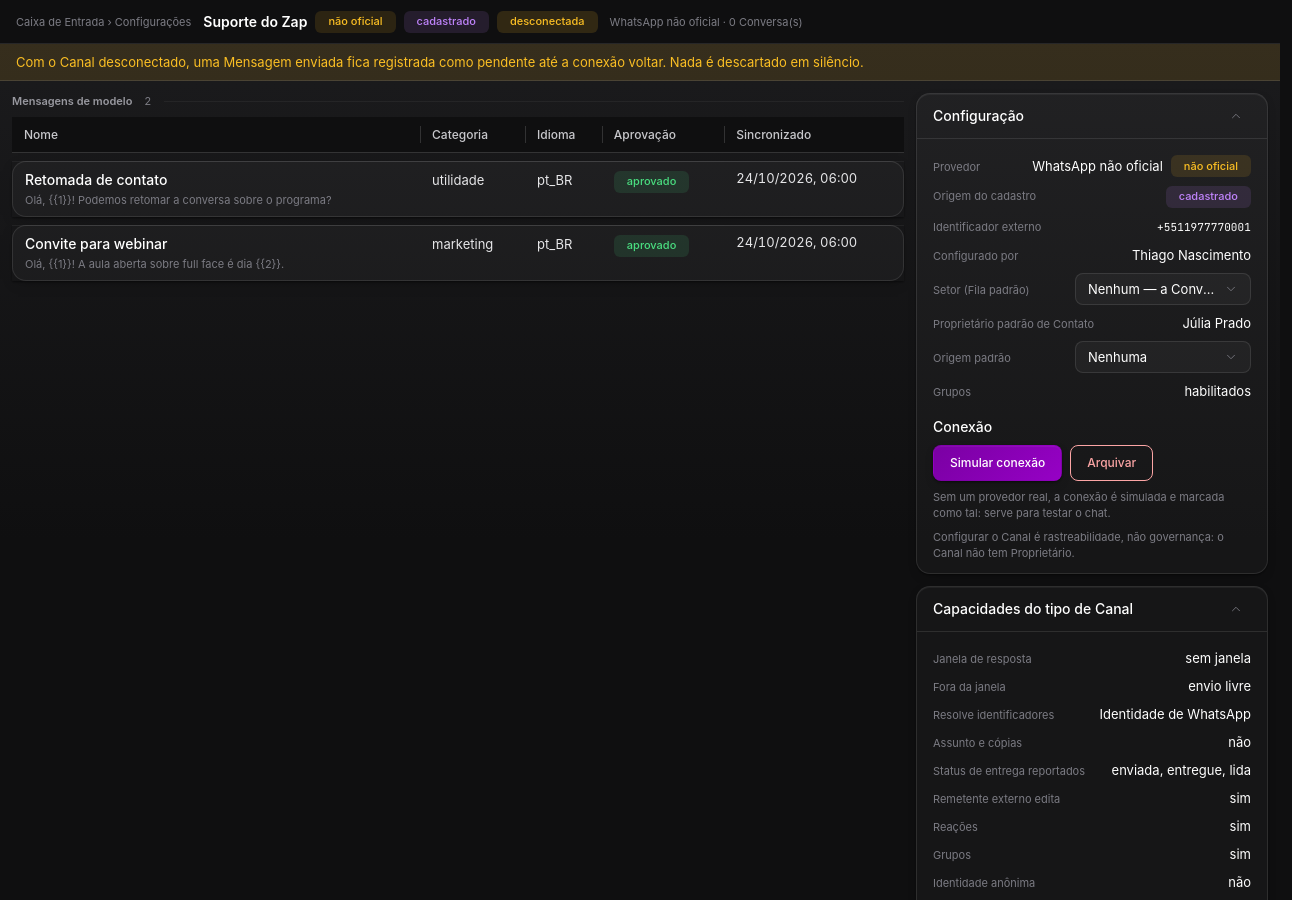
Test: 08-09 — a ficha do Canal relacional › (1) Administrador: mostra provedor, origem e Simular conexão; o clique faz POST sem corpo e re-hidrata
Check: the heading "Suporte do Zap não oficial cadastrado desconectada" is shown, box [203,10,598,32]
Check: the text "WhatsApp não oficial" is shown, box [1032,156,1163,176]
Click the button "Simular conexão" at (998, 462), box [933,444,1062,480]
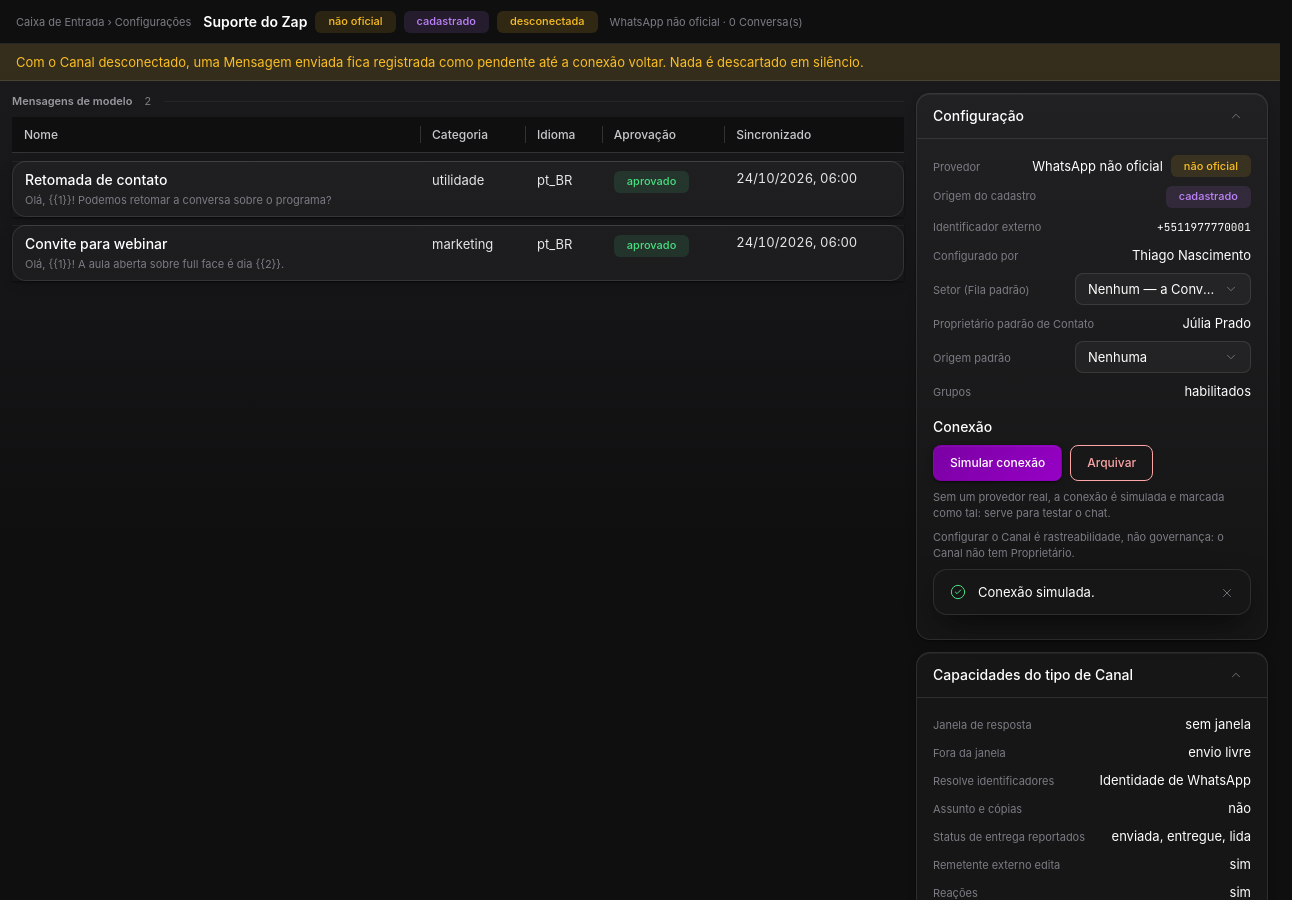
Check: the text "Conexão simulada." is shown, box [978,584,1095,600]
